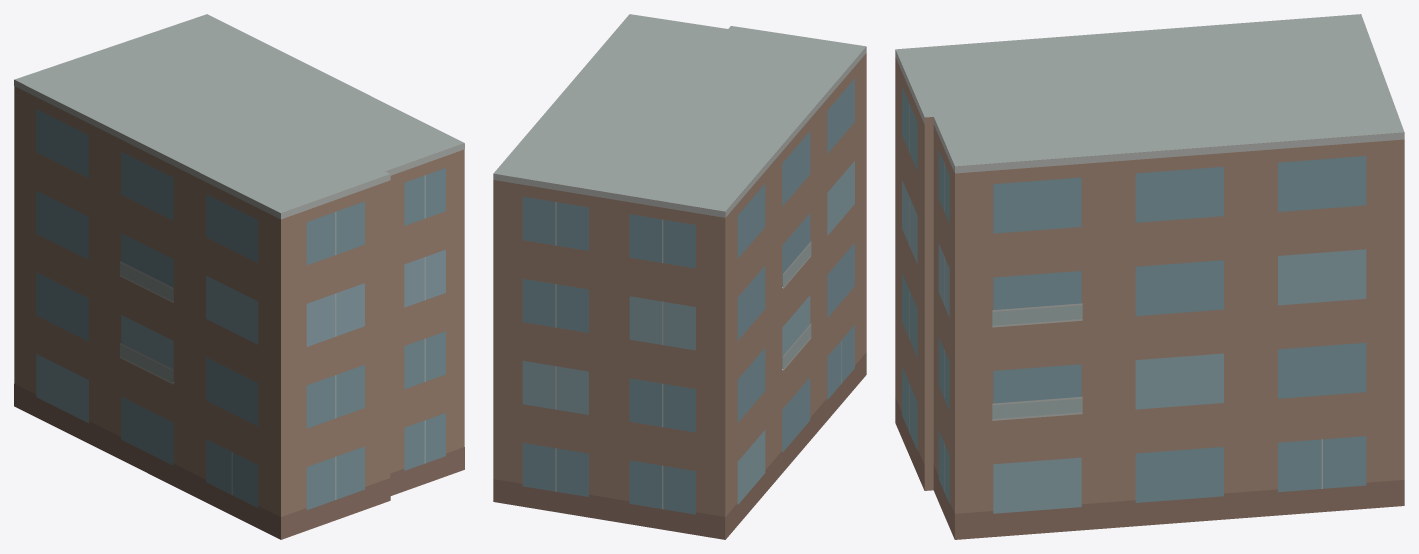
The model's file is survey-upis-32994616.glb.
3 renders of one model, left to right at view 1: azimuth 30°, elevation 25°; view 2: azimuth 150°, elevation 25°; view 3: azimuth 270°, elevation 25°, orthographic. The views are drawn at different scales.
Visible parts, largest first — view 1: survey-upis-32994616.tmp; view 2: survey-upis-32994616.tmp; view 3: survey-upis-32994616.tmp.
Part boxes in pixels (x1,y1,x2,y2): survey-upis-32994616.tmp: [14, 14, 464, 539]; survey-upis-32994616.tmp: [493, 14, 866, 539]; survey-upis-32994616.tmp: [895, 14, 1404, 539].
Size of the model in its own units: 11.21 by 12.8 by 15.83.
